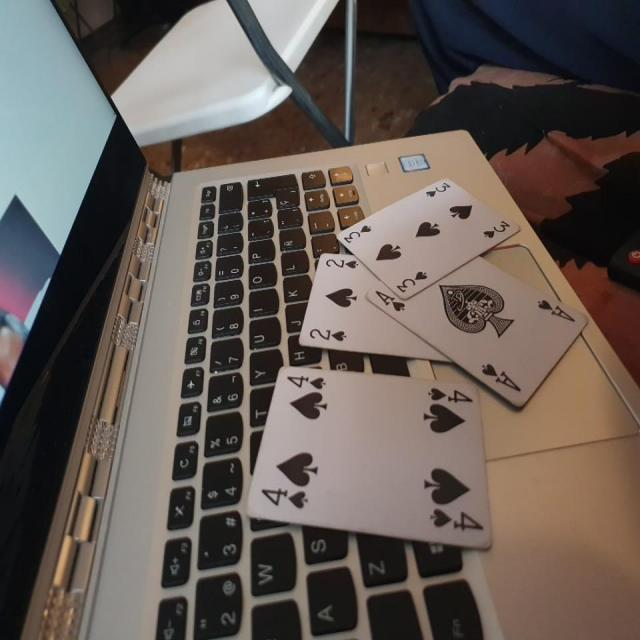2 Spades: (292, 251, 454, 358)
3 Spades: (333, 173, 525, 306)
4 Spades: (236, 367, 498, 556)
A Spades: (368, 254, 598, 409)
